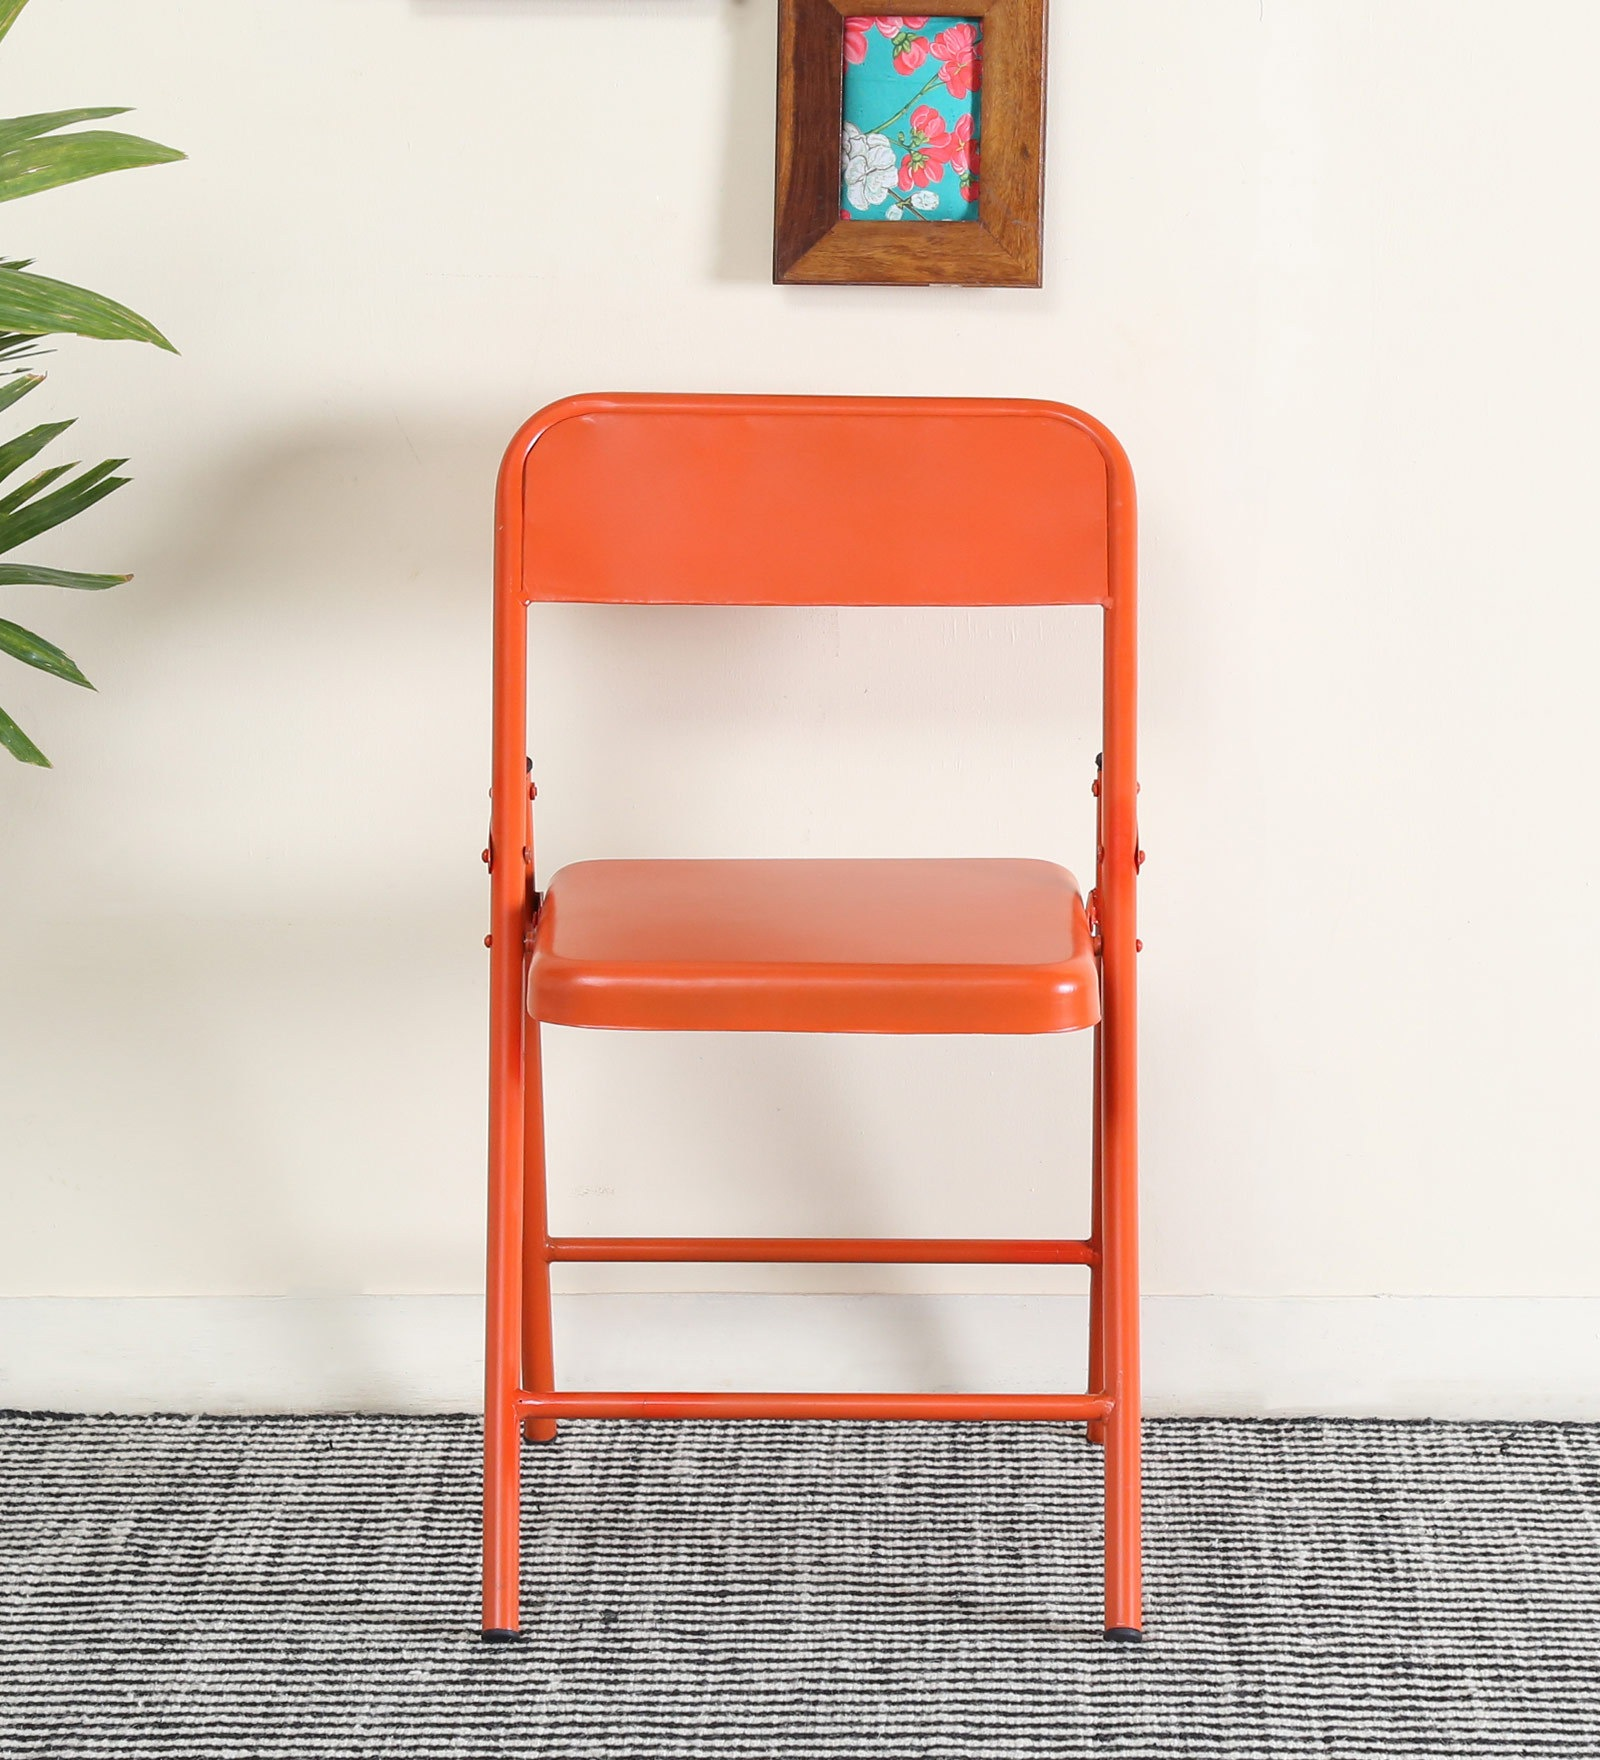Kell Folding Chair in Orange Color by Bohemiana: (438, 363, 1192, 1723)
